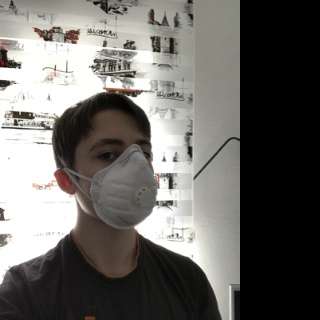with_mask: (85, 126, 157, 229)
